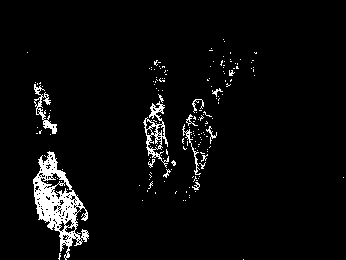person: (32, 149, 89, 260), (182, 98, 218, 193), (142, 99, 175, 189), (31, 79, 59, 137)
